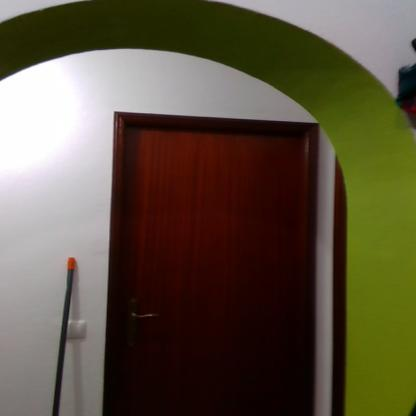door: (124, 126, 308, 416)
lever: (130, 311, 164, 322)
